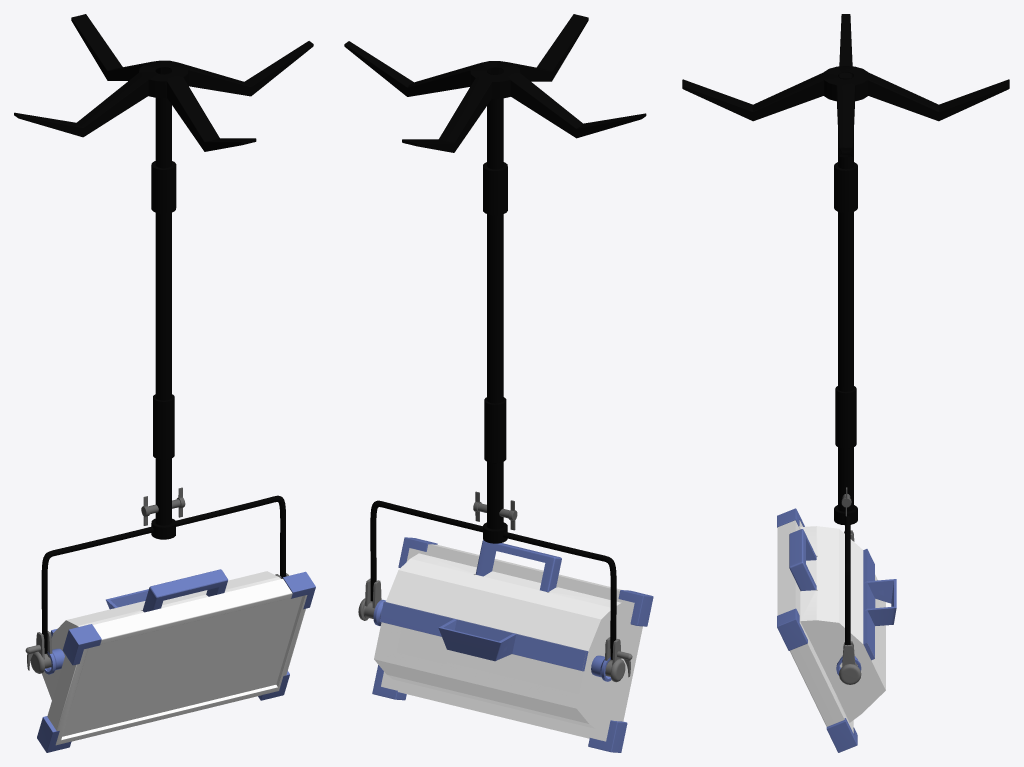
Rendered from Arri_SkyPanel_S60C.fbx.
3 views of the same model, side by side, from view 1: azimuth 30°, elevation 25°; view 2: azimuth 150°, elevation 25°; view 3: azimuth 270°, elevation 25° (orthographic). The views are drawn at different scales.
Parts seen in each view (by area): view 1: pCube55, pCylinder86, pCube56, defaultBrush3Main; view 2: pCube55, pCylinder86, defaultBrush3Main, pCube56, pCylinder84, pCylinder85; view 3: pCube55, pCylinder86, pCube56, defaultBrush3Main.
Boxes of the visible parts, bbox=[...] form: pCube55: bbox=[42, 569, 307, 745]; pCylinder86: bbox=[14, 14, 313, 539]; pCube56: bbox=[37, 571, 315, 752]; defaultBrush3Main: bbox=[41, 495, 285, 653]; pCube55: bbox=[374, 540, 642, 741]; pCylinder86: bbox=[344, 14, 646, 543]; defaultBrush3Main: bbox=[370, 500, 616, 659]; pCube56: bbox=[372, 537, 653, 752]; pCylinder84: bbox=[358, 598, 625, 682]; pCylinder85: bbox=[373, 599, 611, 681]; pCube55: bbox=[777, 520, 896, 733]; pCylinder86: bbox=[682, 14, 1009, 525]; pCube56: bbox=[777, 508, 857, 752]; defaultBrush3Main: bbox=[845, 515, 850, 645].
Size of the model in its own units: 25.02 by 52.61 by 25.02.
